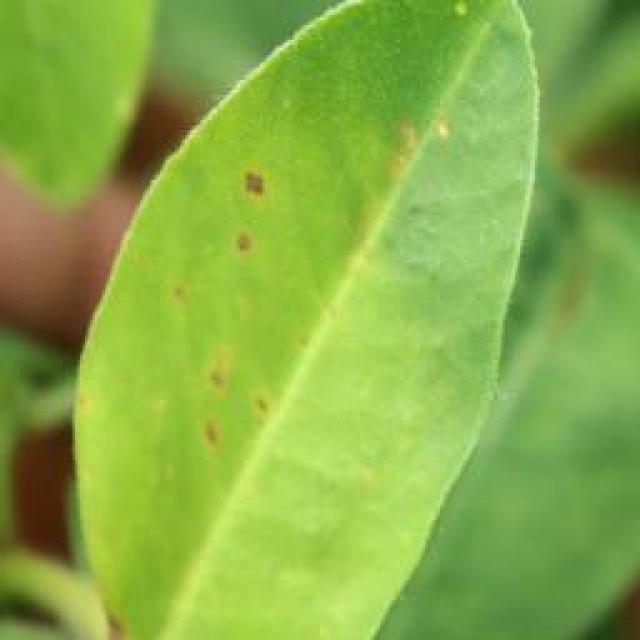Sigatoka: (175, 339, 291, 452), (216, 155, 301, 273), (381, 115, 487, 180), (94, 592, 137, 640), (160, 271, 200, 321)
